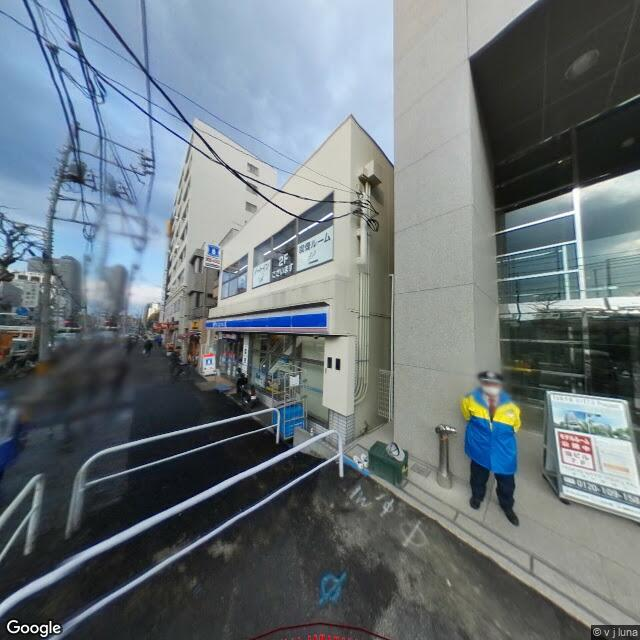lawson: (201, 301, 330, 331), (205, 240, 222, 260), (202, 354, 214, 369)
